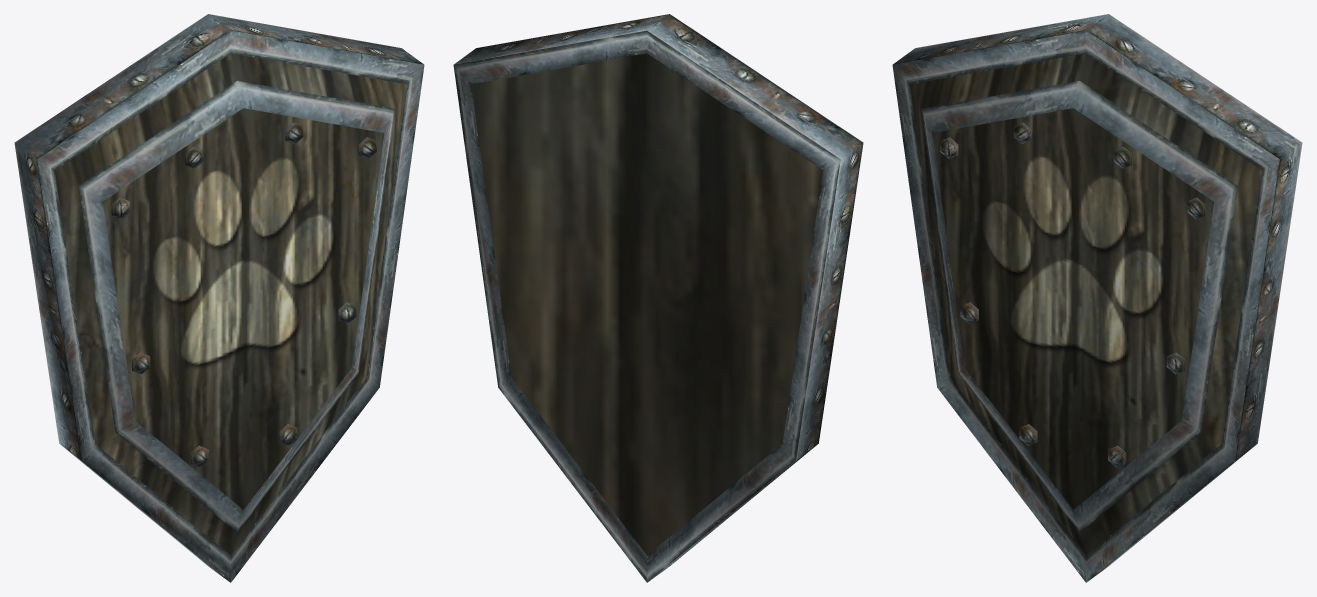
File: shield-03.fbx
3 views of the same model, side by side, from view 1: azimuth 30°, elevation 25°; view 2: azimuth 150°, elevation 25°; view 3: azimuth 330°, elevation 25° (orthographic).
Visible parts, largest first — view 1: Cube.057; view 2: Cube.057; view 3: Cube.057.
Part boxes in pixels (<box>): Cube.057: <box>14,14,424,582</box>; Cube.057: <box>453,14,863,582</box>; Cube.057: <box>892,14,1302,582</box>.
Bounding box in the file's own units: 0.695 × 0.947 × 0.1138.
